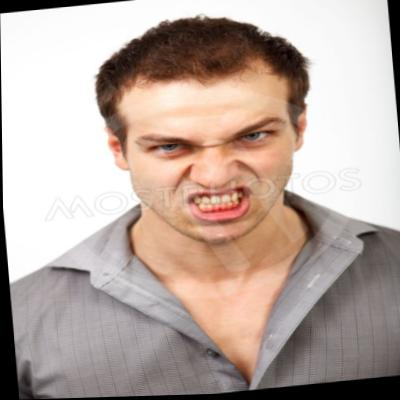angry: (78, 30, 318, 257)
